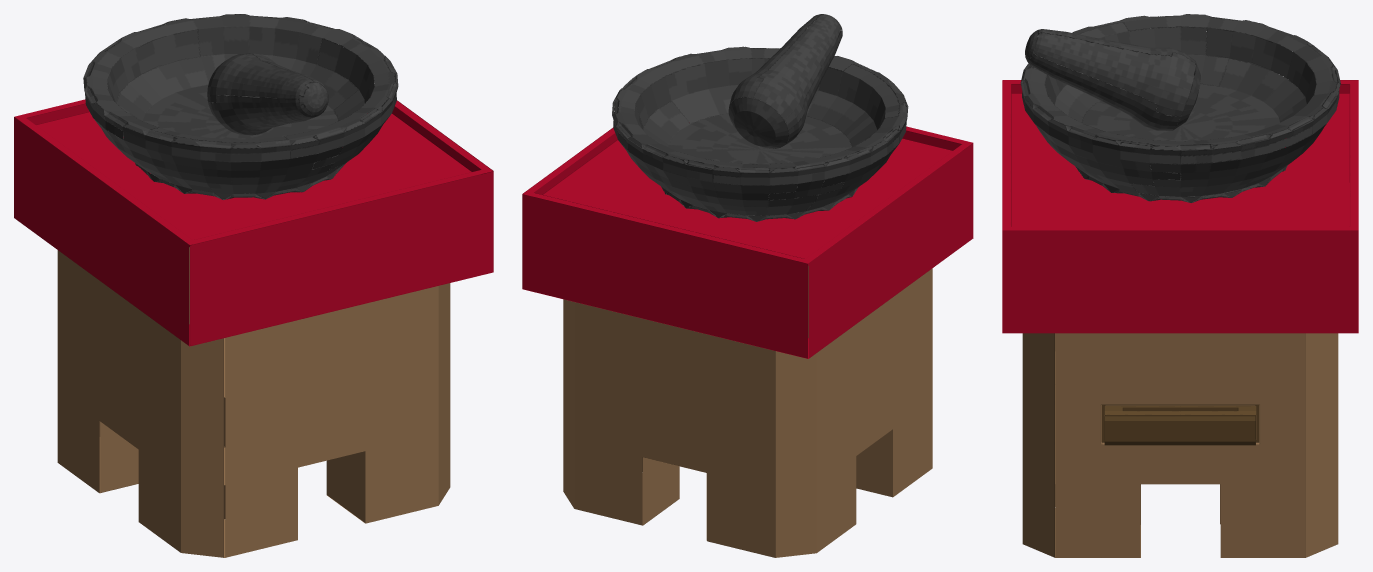
The model's file is Pounding_Station.fbx.
3 renders of one model, left to right at view 1: azimuth 30°, elevation 25°; view 2: azimuth 150°, elevation 25°; view 3: azimuth 270°, elevation 25°, orthographic. The views are drawn at different scales.
Parts seen in each view (by area): view 1: Table, Pounded, Cylinder; view 2: Table, Pounded, Cylinder; view 3: Table, Pounded, Cylinder.
Part boxes in pixels (bbox=[...]): Table: bbox=[14, 99, 493, 557]; Pounded: bbox=[83, 14, 398, 199]; Cylinder: bbox=[207, 53, 328, 135]; Table: bbox=[522, 126, 973, 557]; Pounded: bbox=[612, 46, 908, 221]; Cylinder: bbox=[728, 14, 842, 148]; Table: bbox=[1002, 80, 1358, 557]; Pounded: bbox=[1020, 14, 1340, 202]; Cylinder: bbox=[1025, 29, 1200, 130].
Size of the model in its own units: 199 by 279 by 199.
